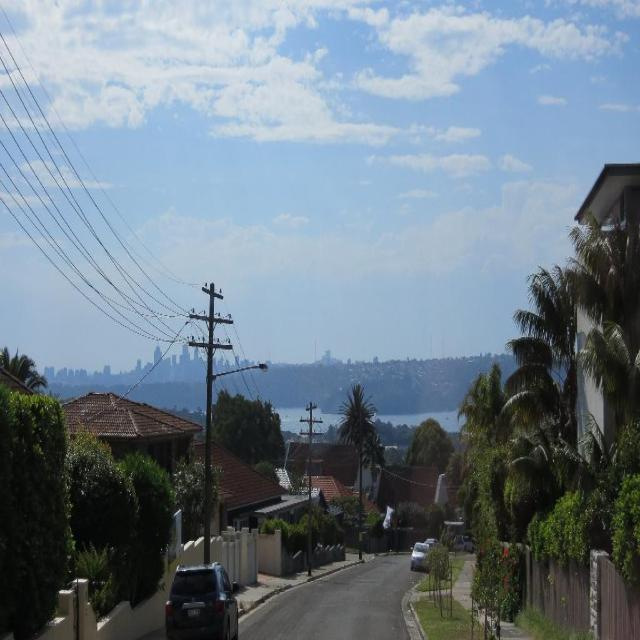car: (181, 551, 238, 636)
